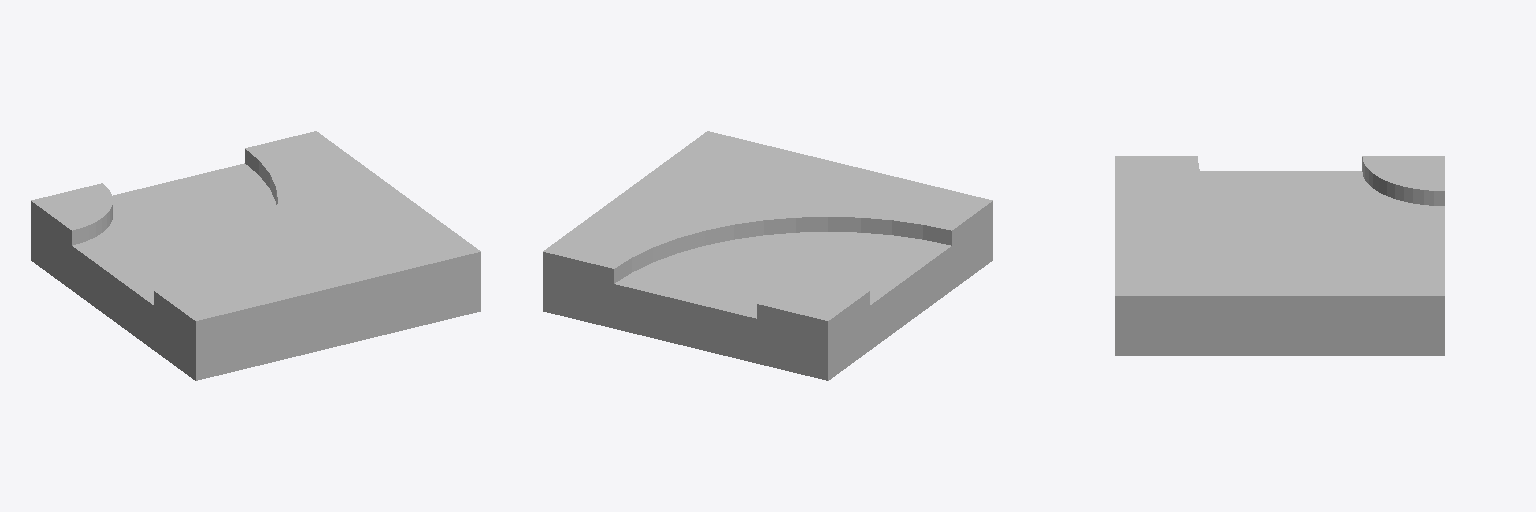
The model's file is RiverCornerLU.obj.
3 views of the same model, side by side, from view 1: azimuth 30°, elevation 25°; view 2: azimuth 150°, elevation 25°; view 3: azimuth 270°, elevation 25° (orthographic).
Parts seen in each view (by area): view 1: RiverCornerLU; view 2: RiverCornerLU; view 3: RiverCornerLU.
Part boxes in pixels (x1,y1,x2,y2): RiverCornerLU: (31,131,480,380); RiverCornerLU: (543,131,992,380); RiverCornerLU: (1115,156,1444,355).
Bounding box in the file's own units: 1 × 0.2 × 1.